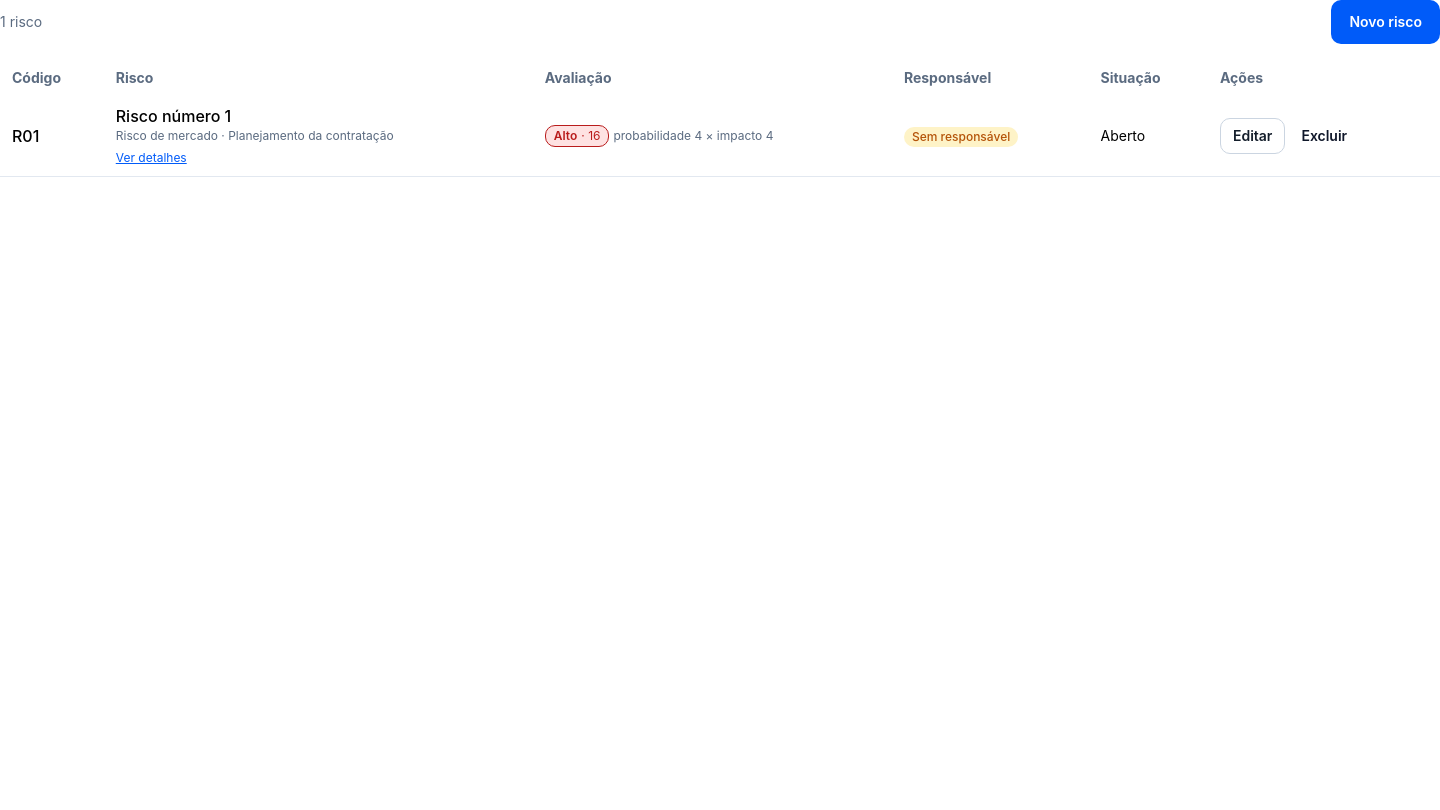
it: SCR-011 · lista de riscos (US-033) › [Sucesso] reavaliação: transição "Alto → Médio", PATCH só com o alterado e If-Match
What coordinates should you click on to do the following:
click the button with aria-label "Editar R01"
I would click on:
 (1253, 136)
Its box is [1220, 118, 1285, 154].
(page scrolled)
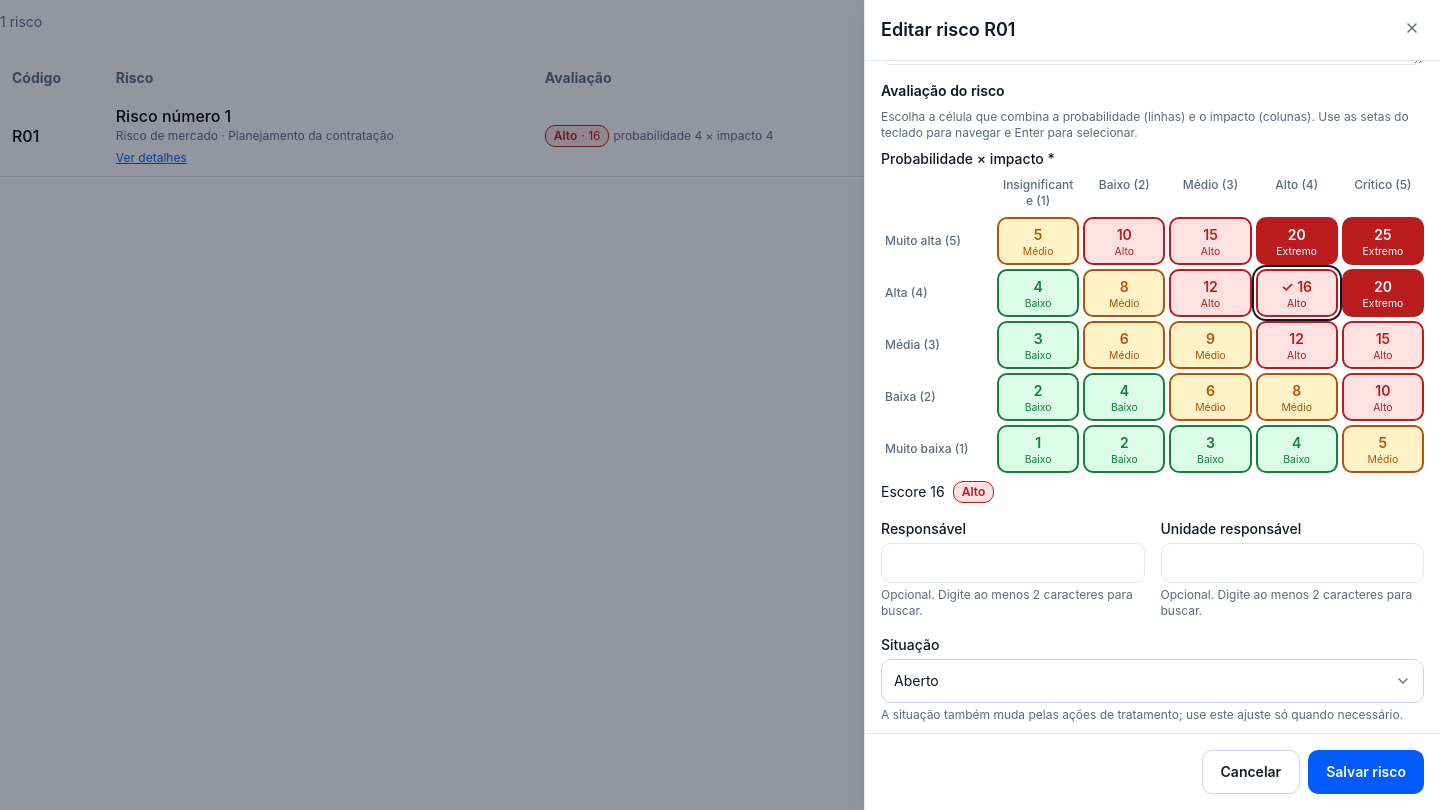
What coordinates should you click on to do the following:
click the cell named "Probabilidade Baixa (2), impacto Alto (4): escore 8, nível Médio"
I would click on:
 (1297, 397)
Its box is [1256, 373, 1338, 421].
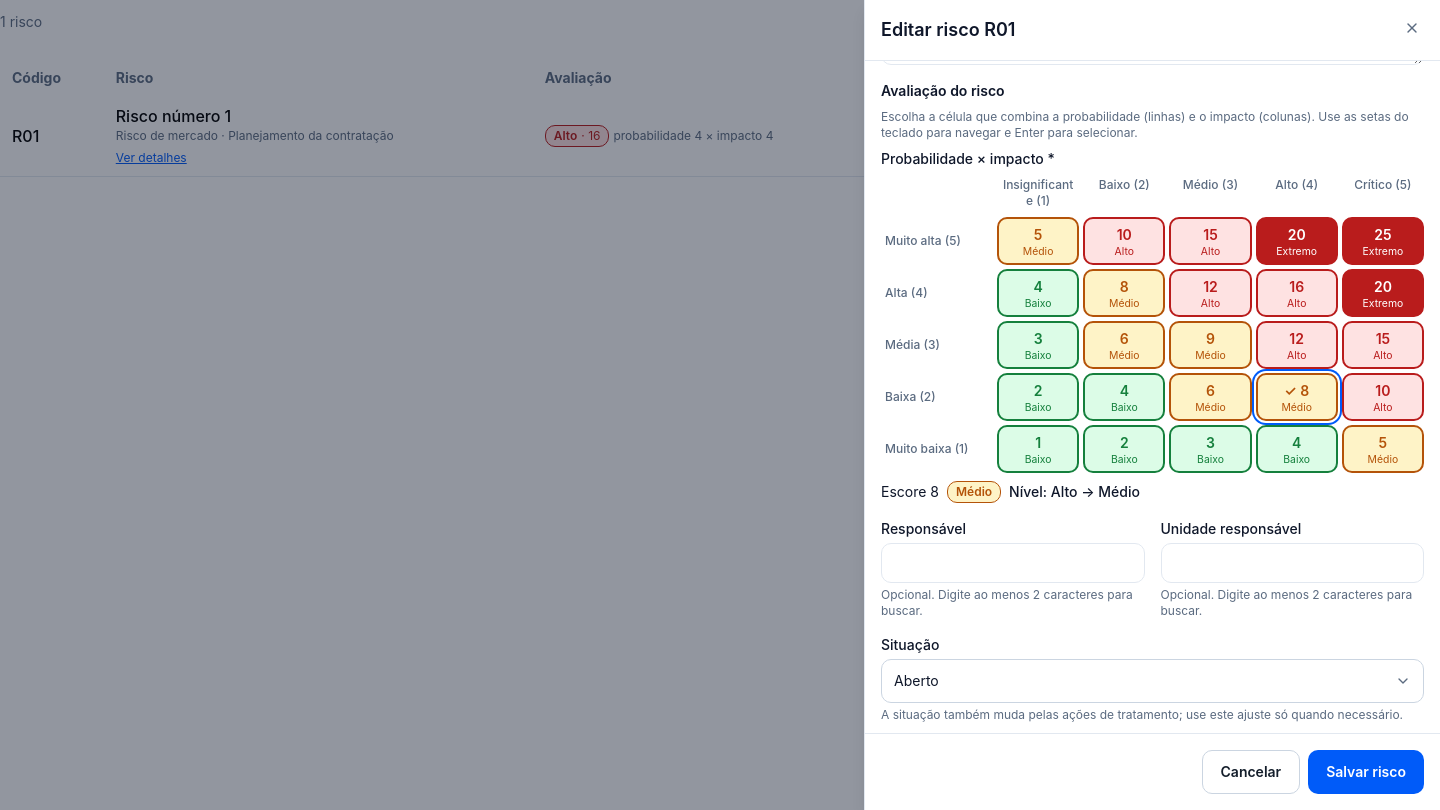
expect the text "Nível: Alto → Médio" is shown: met, box [1009, 482, 1140, 502]
What coordinates should you click on to do the following:
click the button "Salvar risco"
I would click on:
 (1366, 772)
Its box is [1308, 750, 1424, 794].
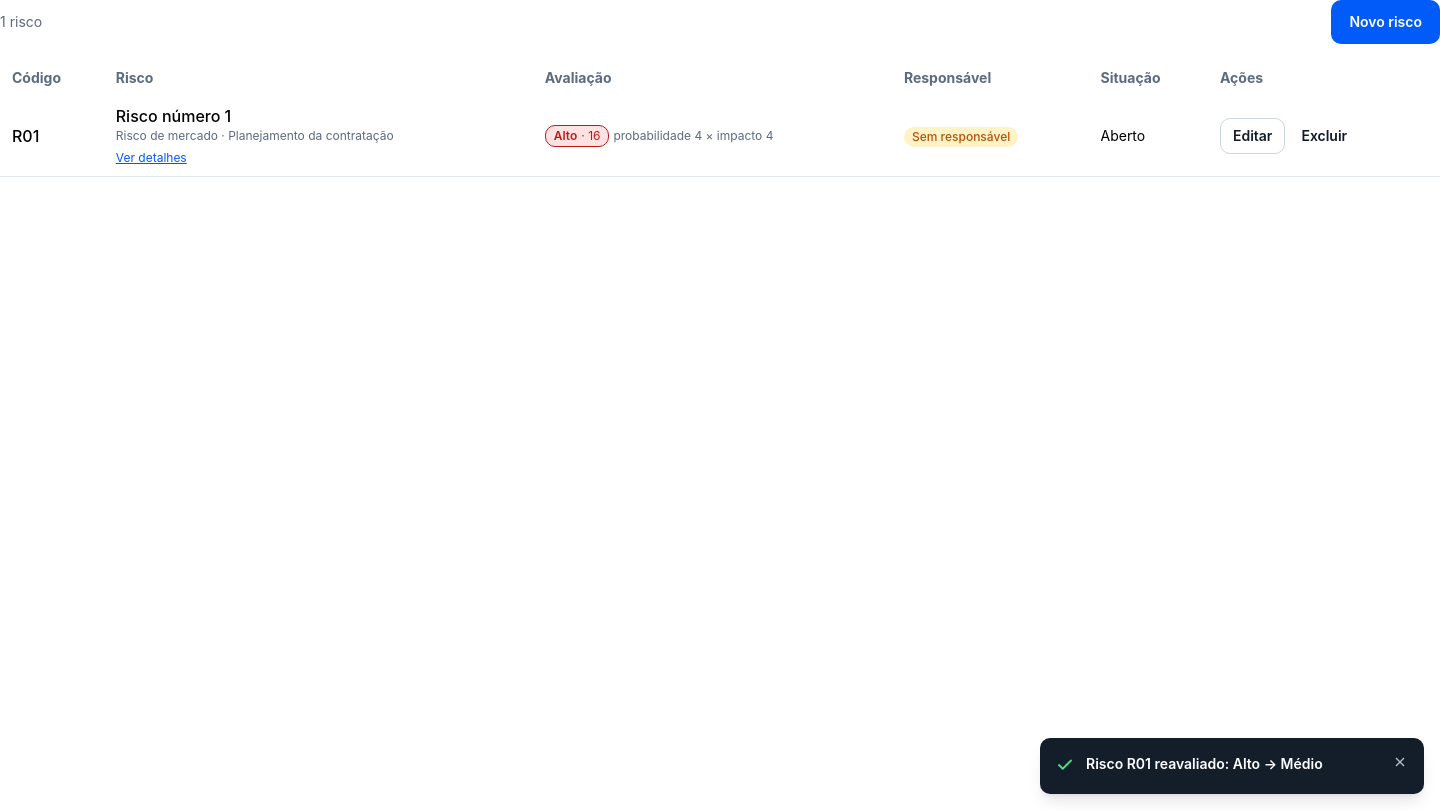
expect the text "Risco R01 reavaliado: Alto → Médio" is shown: met, box [1086, 755, 1323, 772]
